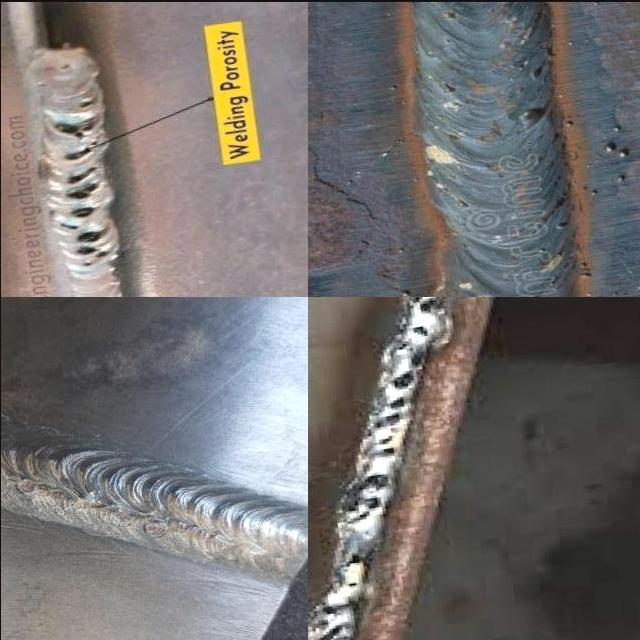defect: (337, 467, 394, 523), (376, 393, 409, 458), (57, 218, 110, 258), (389, 347, 426, 393), (313, 599, 349, 640), (49, 116, 97, 138), (59, 135, 99, 161), (399, 295, 444, 317), (65, 181, 98, 198), (65, 164, 96, 182), (339, 548, 364, 570), (16, 476, 39, 495), (143, 520, 168, 537), (407, 322, 432, 339), (109, 506, 133, 523), (68, 204, 97, 217), (61, 497, 80, 511), (75, 95, 95, 108), (345, 577, 359, 586), (82, 259, 92, 264)
